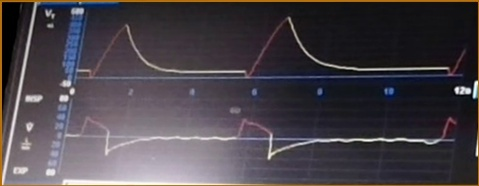Flow: (67, 114, 457, 170)
Leakage Volume: (83, 16, 466, 85)
